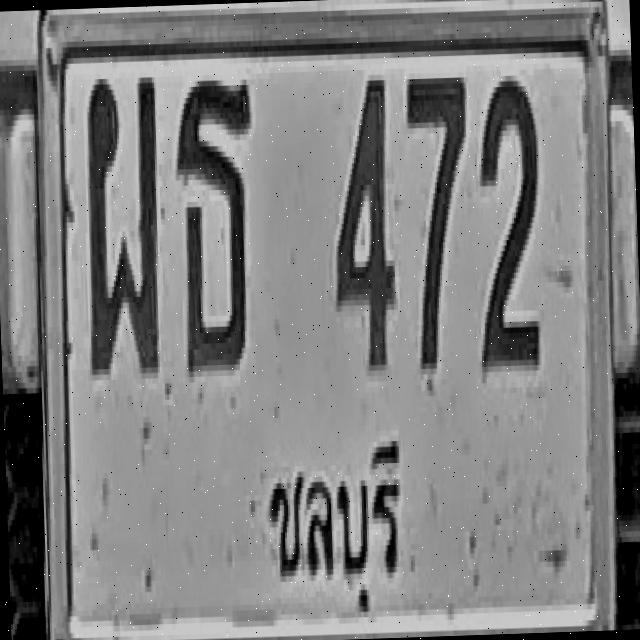2: (470, 74, 544, 372)
33ThorThong: (173, 74, 259, 372)
37PhorPhueng: (80, 69, 165, 378)
4: (326, 75, 396, 372)
7: (404, 72, 474, 374)
Chonburi: (244, 433, 413, 632)
